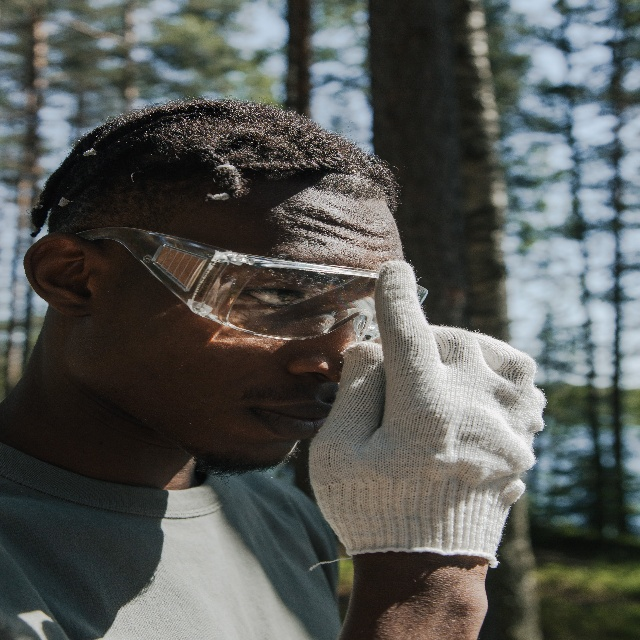Gafas: (75, 217, 429, 343)
Guantes: (312, 244, 548, 577)
